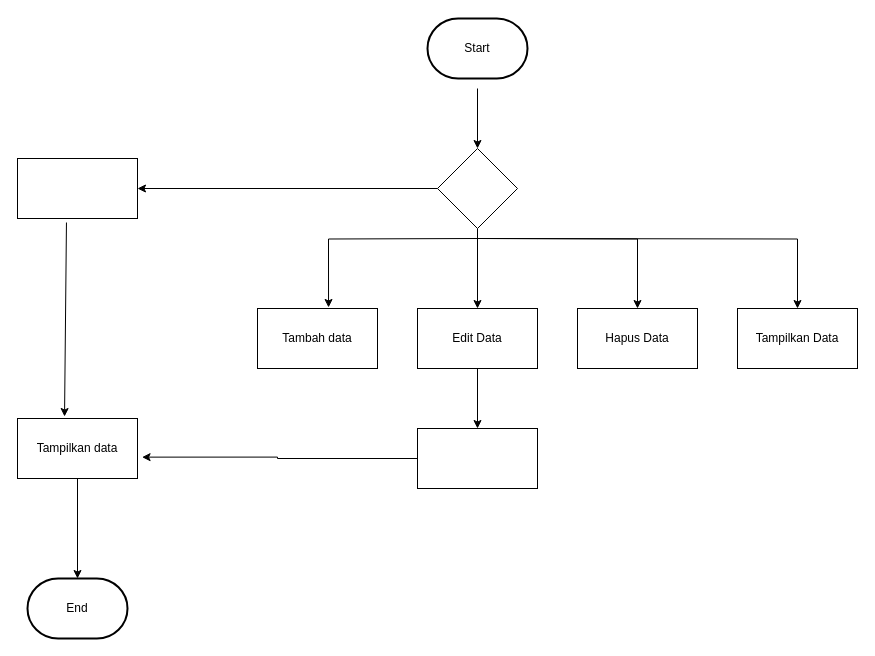
Image size: 875x656. Some labels were removed from this diagram. Each missing label, with the box of its shape:
Admin: (436, 148, 518, 228)
Dashboard: (16, 158, 138, 218)
Simpan: (416, 428, 538, 488)
